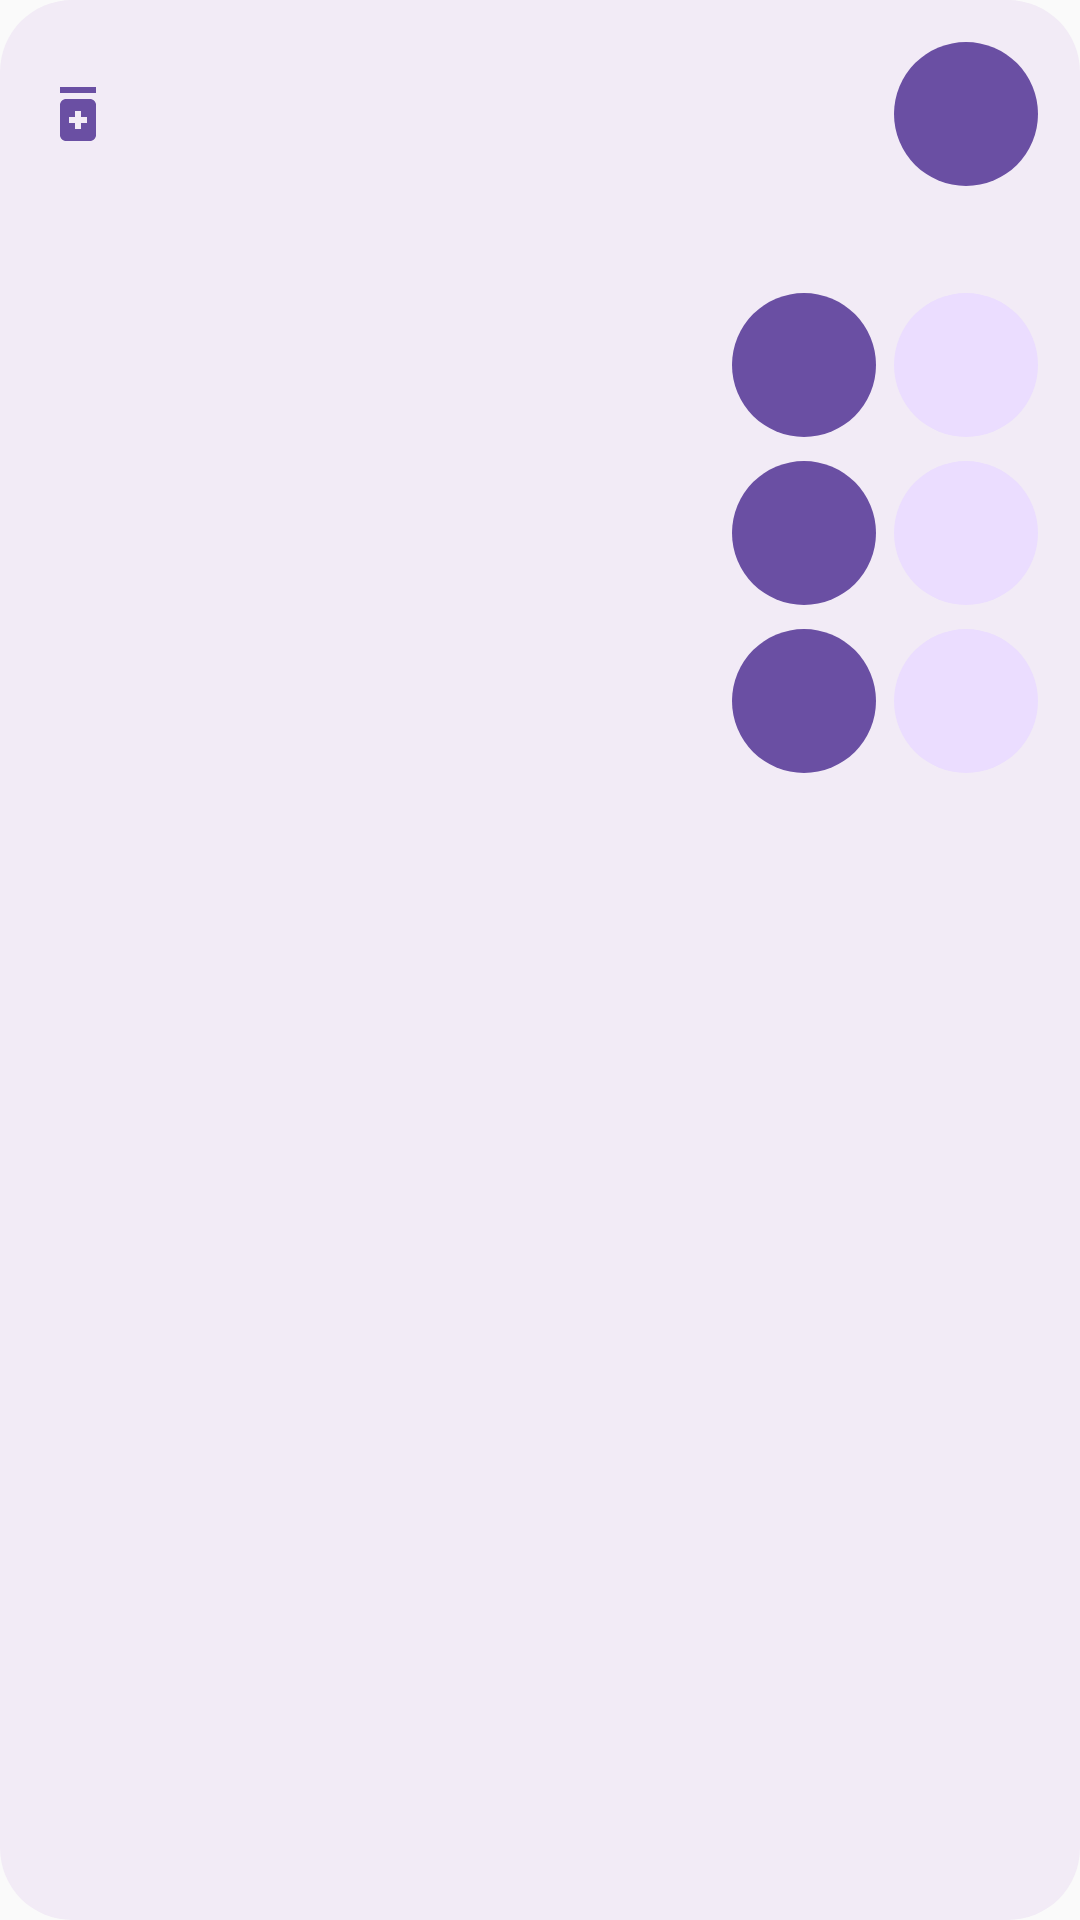

Point at icon controls on the screen. Image size 1080×1920, points as point (x, y).
module meds: point (78, 114)
